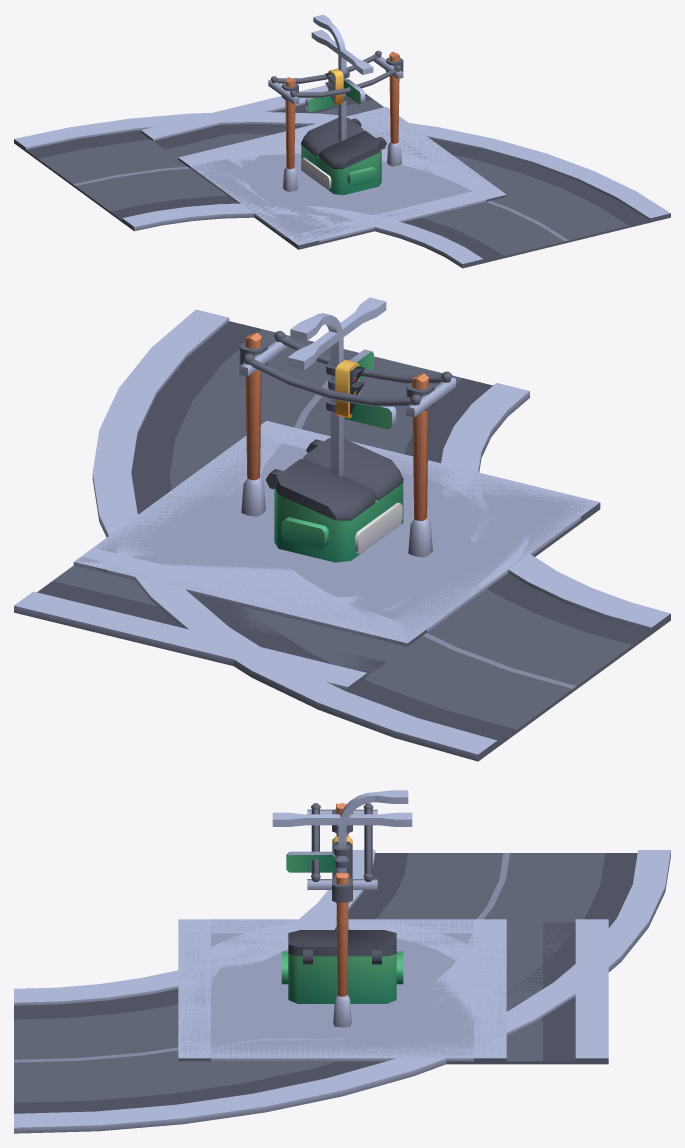
Rendered from street.glb.
3 renders of one model, top to bottom at view 1: azimuth 30°, elevation 25°; view 2: azimuth 150°, elevation 25°; view 3: azimuth 270°, elevation 25°, orthographic. The views are drawn at different scales.
Parts seen in each view (by area): view 1: road-curve, tile-low, dumpster, road-side, electricity-pole, road-square, road-straight, road-intersection, road-bend, road-bend-sidewalk, road-end-round, traffic-light (+4 smaller); view 2: road-curve, tile-low, road-side, dumpster, electricity-pole, road-square, road-bend-sidewalk, road-straight, road-intersection, road-end-round, road-bend, light-curved (+4 smaller); view 3: road-curve, tile-low, road-side, road-straight, dumpster, road-square, road-end-round, road-bend-sidewalk, electricity-pole, road-intersection, light-square-double, road-sign-street (+4 smaller).
Part boxes in pixels (<box>): road-curve: <box>14,111,670,268</box>; tile-low: <box>191,109,493,243</box>; dumpster: <box>301,117,386,195</box>; road-side: <box>141,80,484,249</box>; electricity-pole: <box>268,50,403,191</box>; road-square: <box>182,107,493,244</box>; road-straight: <box>178,107,500,244</box>; road-intersection: <box>178,107,506,249</box>; road-bend: <box>195,144,492,244</box>; road-bend-sidewalk: <box>187,108,493,197</box>; road-end-round: <box>225,108,498,226</box>; traffic-light: <box>325,68,349,141</box>; road-curve: <box>92,309,670,761</box>; tile-low: <box>76,424,598,641</box>; road-side: <box>14,502,600,690</box>; dumpster: <box>265,438,403,562</box>; electricity-pole: <box>239,331,455,557</box>; road-square: <box>74,421,597,641</box>; road-bend-sidewalk: <box>75,423,404,640</box>; road-straight: <box>76,421,599,646</box>; road-intersection: <box>73,421,426,646</box>; road-end-round: <box>101,422,528,612</box>; road-bend: <box>216,423,599,642</box>; light-curved: <box>290,313,342,476</box>; road-curve: <box>14,850,670,1133</box>; tile-low: <box>178,919,506,1058</box>; road-side: <box>178,919,608,1064</box>; road-straight: <box>178,919,506,1058</box>; dumpster: <box>281,930,403,1003</box>; road-square: <box>178,919,506,1061</box>; road-end-round: <box>178,919,506,1057</box>; road-bend-sidewalk: <box>178,931,506,1058</box>; electricity-pole: <box>307,803,377,1027</box>; road-intersection: <box>178,919,506,1061</box>; light-square-double: <box>272,812,412,842</box>; road-sign-street: <box>286,851,349,877</box>.
Size of the model in its own units: 2 by 0.675 by 2.
Materials: 1 (1 with a texture image).
